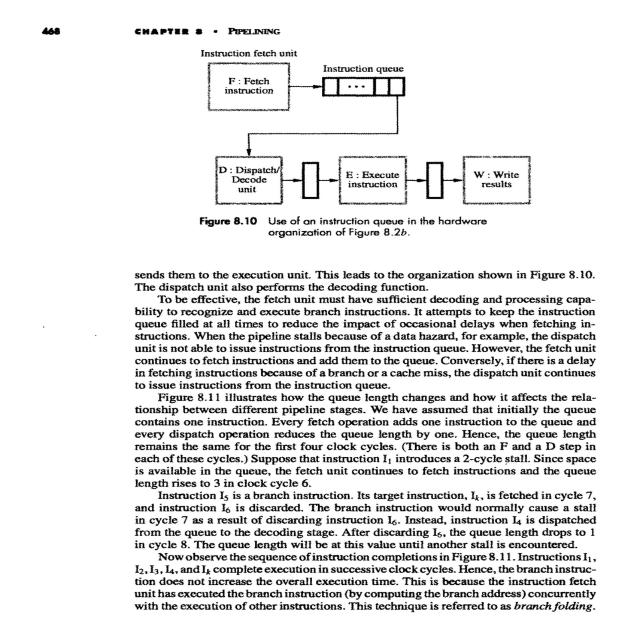diagram: (81, 48, 617, 252), (639, 240, 640, 267)
